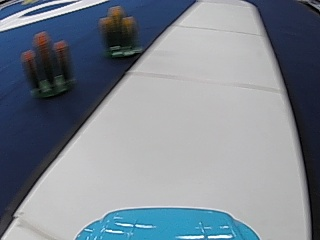corn: (22, 28, 73, 99), (99, 3, 138, 60)
